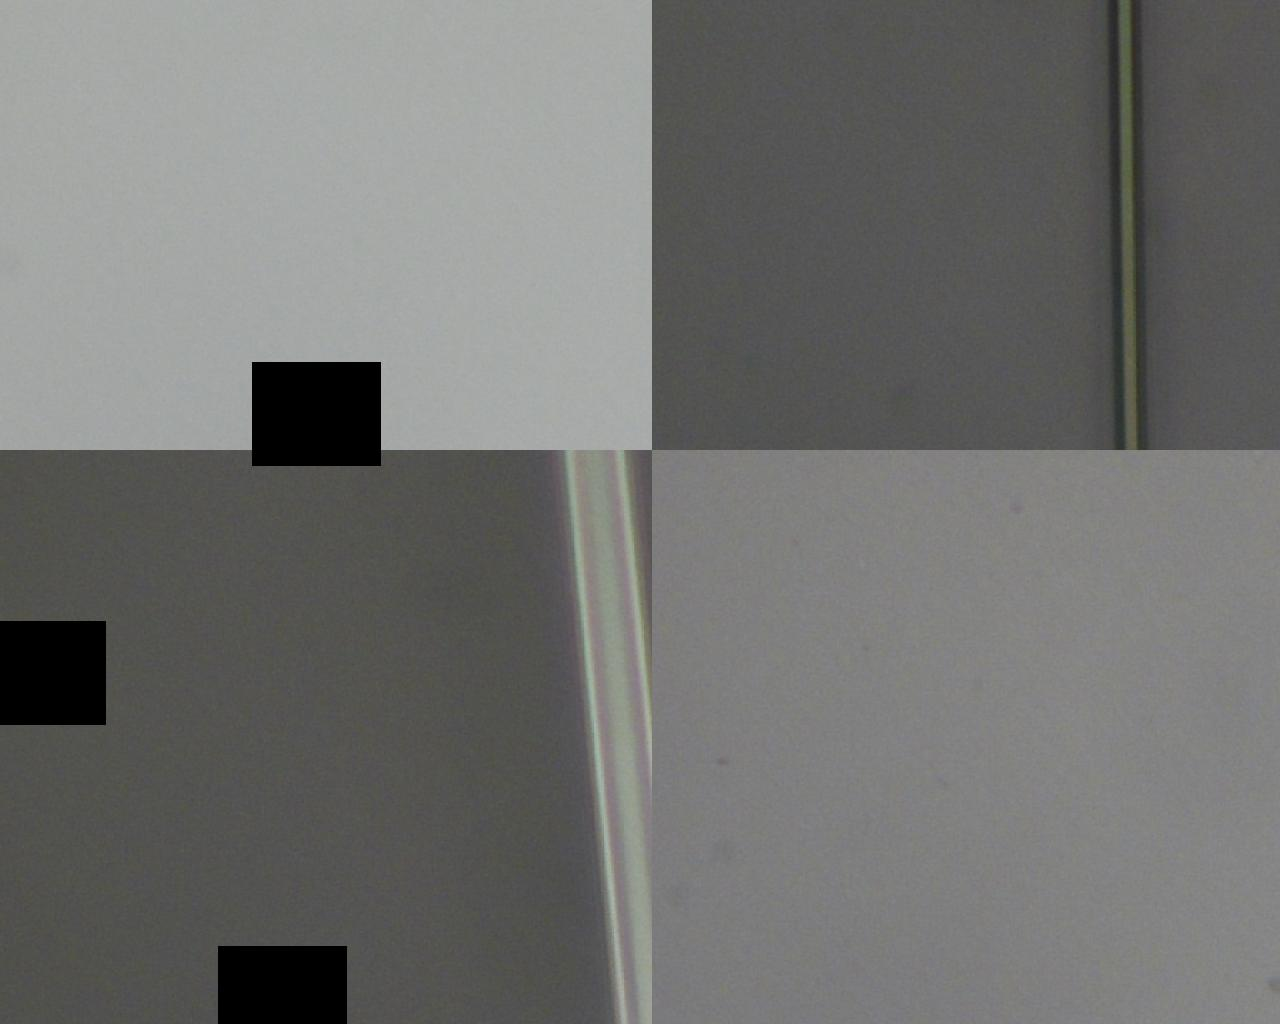fiber: (127, 153, 1151, 206)
